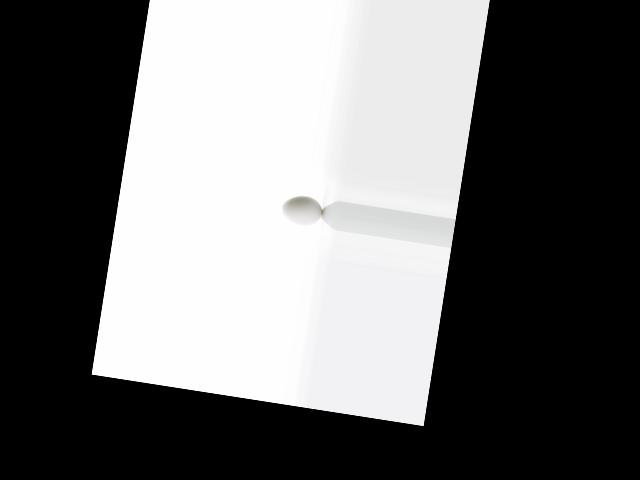egg: (280, 193, 324, 227)
